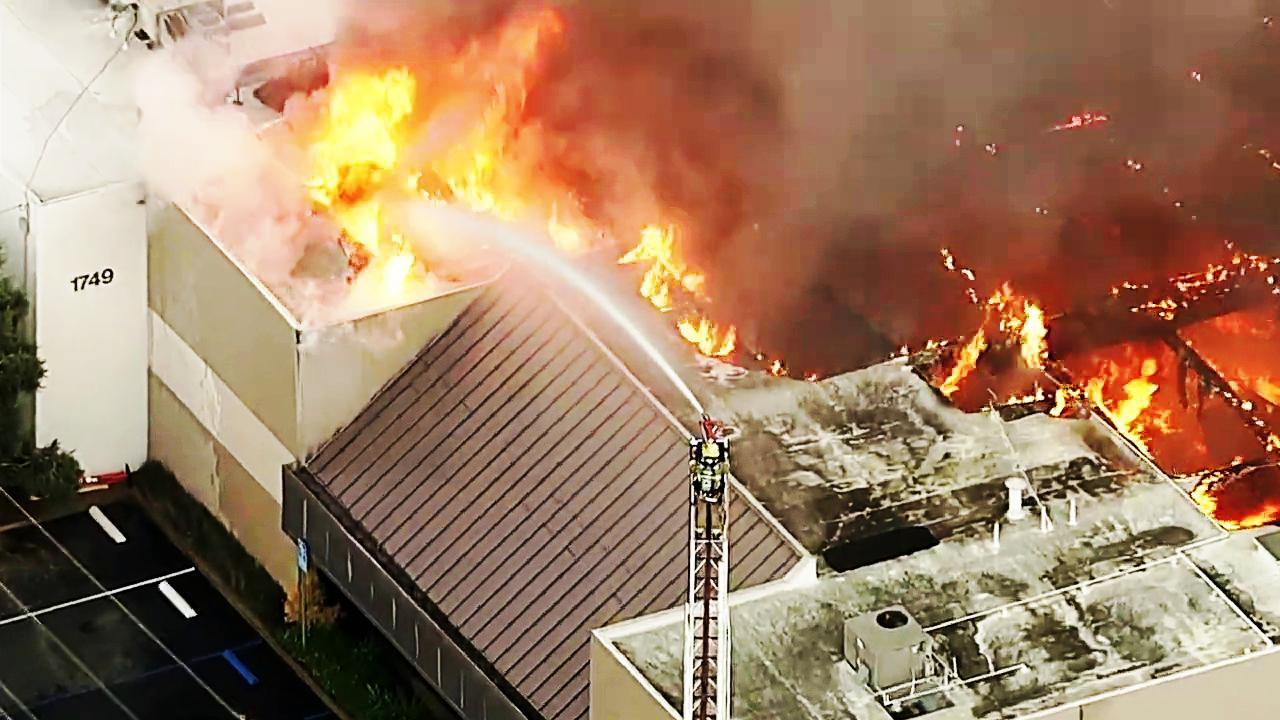fire: (282, 70, 418, 198)
smoke: (764, 0, 1280, 157)
